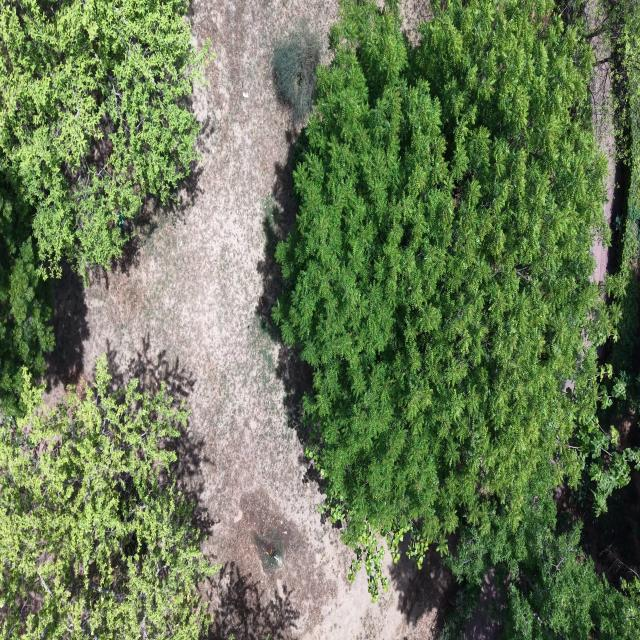DRY_AREA: (48, 0, 452, 639), (591, 35, 621, 226)
VEGETATION_TREE: (273, 0, 639, 639), (274, 0, 639, 638), (275, 0, 608, 559), (0, 0, 215, 639), (496, 0, 639, 638), (504, 0, 639, 638), (0, 0, 208, 413), (0, 357, 215, 639), (0, 0, 208, 272), (441, 496, 639, 639), (601, 0, 639, 423), (0, 174, 53, 414), (590, 0, 639, 167), (273, 24, 322, 120)
